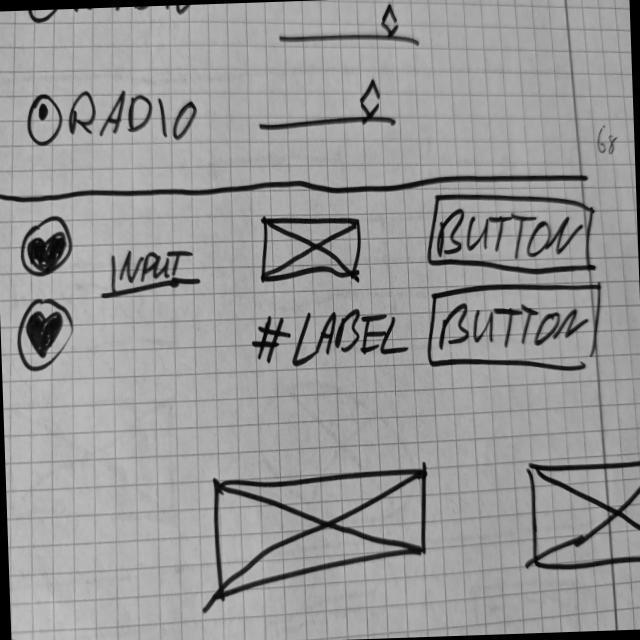button: (425, 281, 608, 378), (424, 188, 600, 281)
container: (1, 166, 640, 640)
image: (210, 462, 436, 602), (525, 456, 640, 572), (257, 212, 365, 287)
input: (98, 245, 204, 304)
label: (250, 304, 412, 371)
number-input: (256, 74, 401, 135), (278, 2, 423, 55)
radio: (25, 82, 68, 153)
